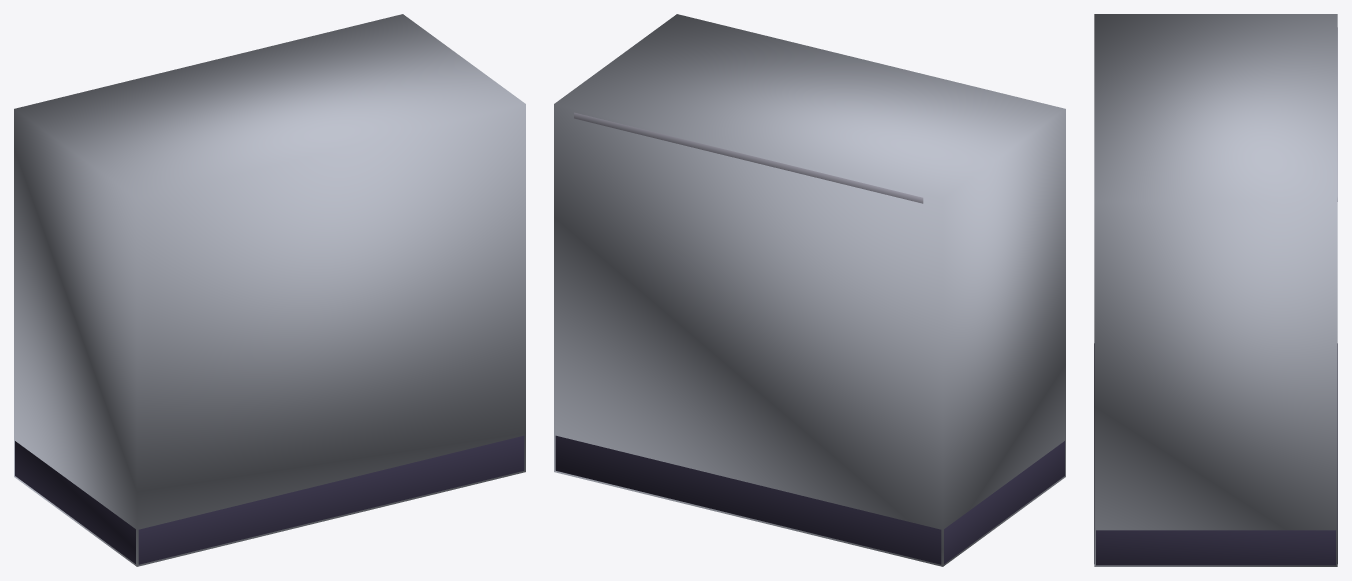
File: Tier_10.fbx
The picture shows the model from 3 angles, left to right: view 1: azimuth 30°, elevation 25°; view 2: azimuth 150°, elevation 25°; view 3: azimuth 270°, elevation 25°; orthographic projection.
Parts seen in each view (by area): view 1: Root, Body; view 2: Root, Body, Cloud; view 3: Root, Body.
Part boxes in pixels (left/top/right/bottom): Root: left=14, top=14, right=525, bottom=566; Body: left=15, top=435, right=524, bottom=564; Root: left=554, top=14, right=1065, bottom=566; Body: left=555, top=435, right=1064, bottom=564; Cloud: left=574, top=112, right=923, bottom=203; Root: left=1094, top=14, right=1337, bottom=566; Body: left=1094, top=343, right=1337, bottom=565.
Size of the model in its own units: 84 by 75.99 by 46.
